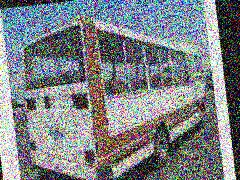bus: (11, 2, 219, 180)
